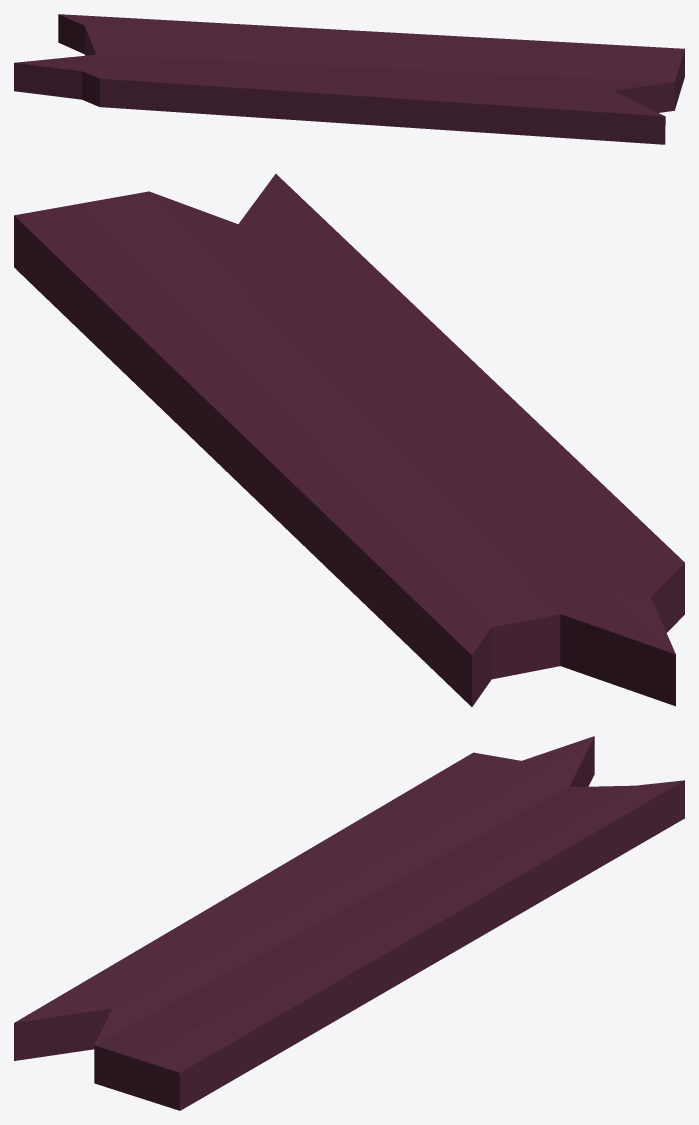
File: plank_004_grp.fbx
3 views of the same model, one above another, from view 1: azimuth 30°, elevation 25°; view 2: azimuth 150°, elevation 25°; view 3: azimuth 270°, elevation 25° (orthographic). The views are drawn at different scales.
Visible parts, largest first — view 1: plank_004_grp; view 2: plank_004_grp; view 3: plank_004_grp.
Boxes of the visible parts, box(x1,y1,x2,y2) form: plank_004_grp: box(14, 14, 684, 144); plank_004_grp: box(14, 174, 684, 706); plank_004_grp: box(14, 736, 684, 1110).
Size of the model in its own units: 451 by 32 by 378.
